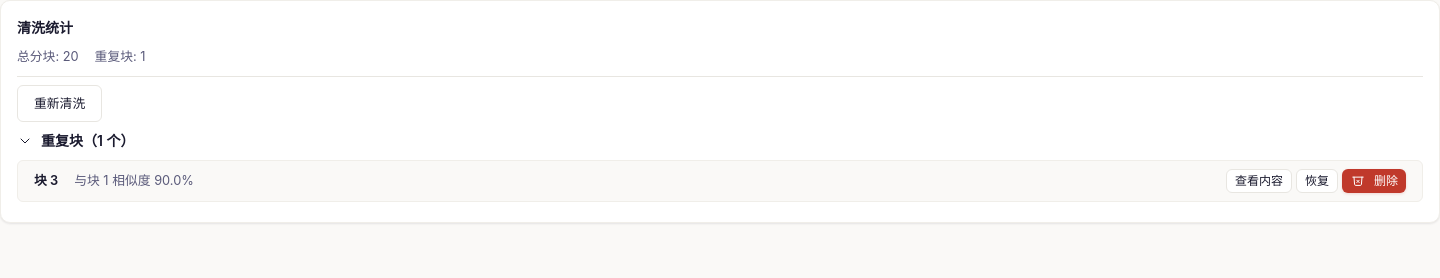
Test: 块级折叠：与段级折叠互不干扰 › 内容缺失时给出"重新清洗"的说明，而不是空白
This screenshot has width=1440, height=278.
Click the button "查看内容": (1259, 181) [1226,169,1292,193]
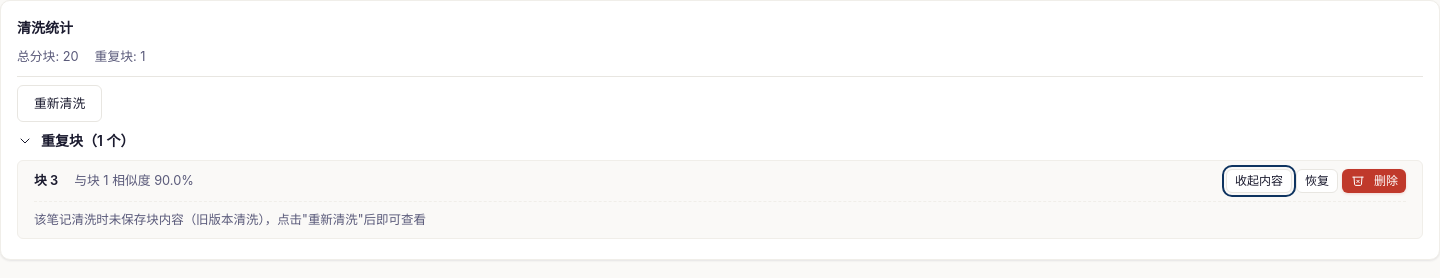
Expected: the text "该笔记清洗时未保存块内容（旧版本清洗），点击\"重新清洗\"后即可查看" is shown, [34,212,426,227]
